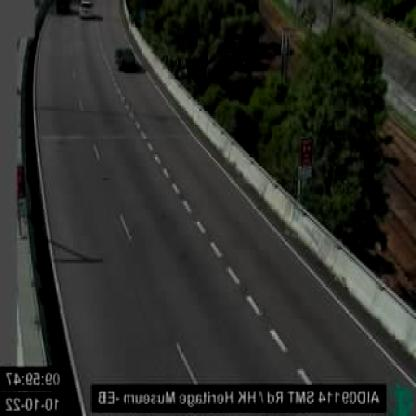Car: (114, 46, 135, 71), (79, 0, 93, 17)
